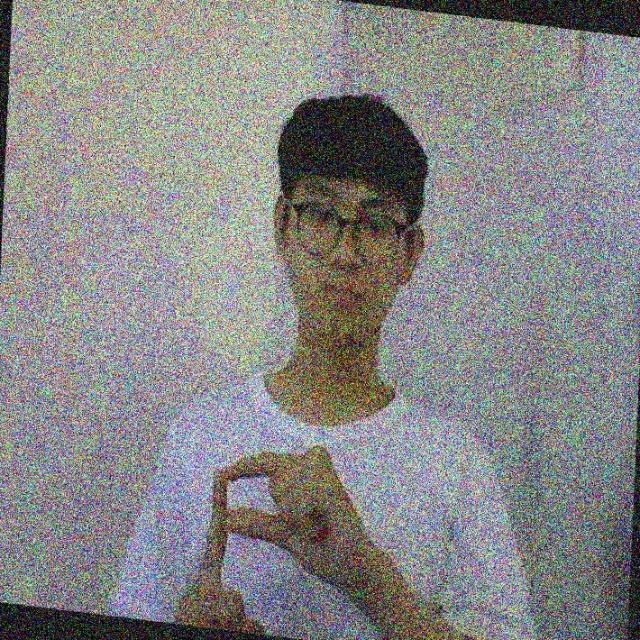P: (188, 436, 323, 610)
